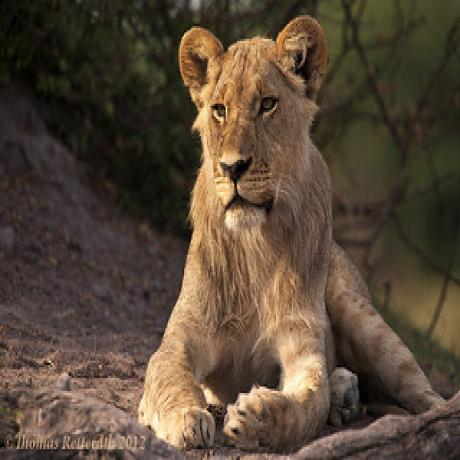Lion: (142, 14, 441, 438)
